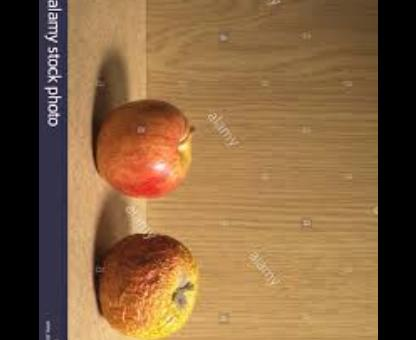defect: (96, 234, 200, 340)
